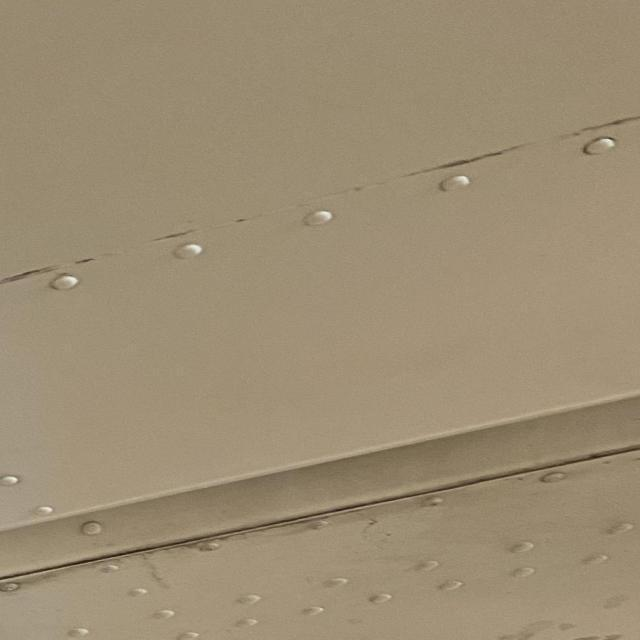Paint-off: (602, 577, 640, 610), (501, 618, 557, 640), (572, 633, 624, 640)
